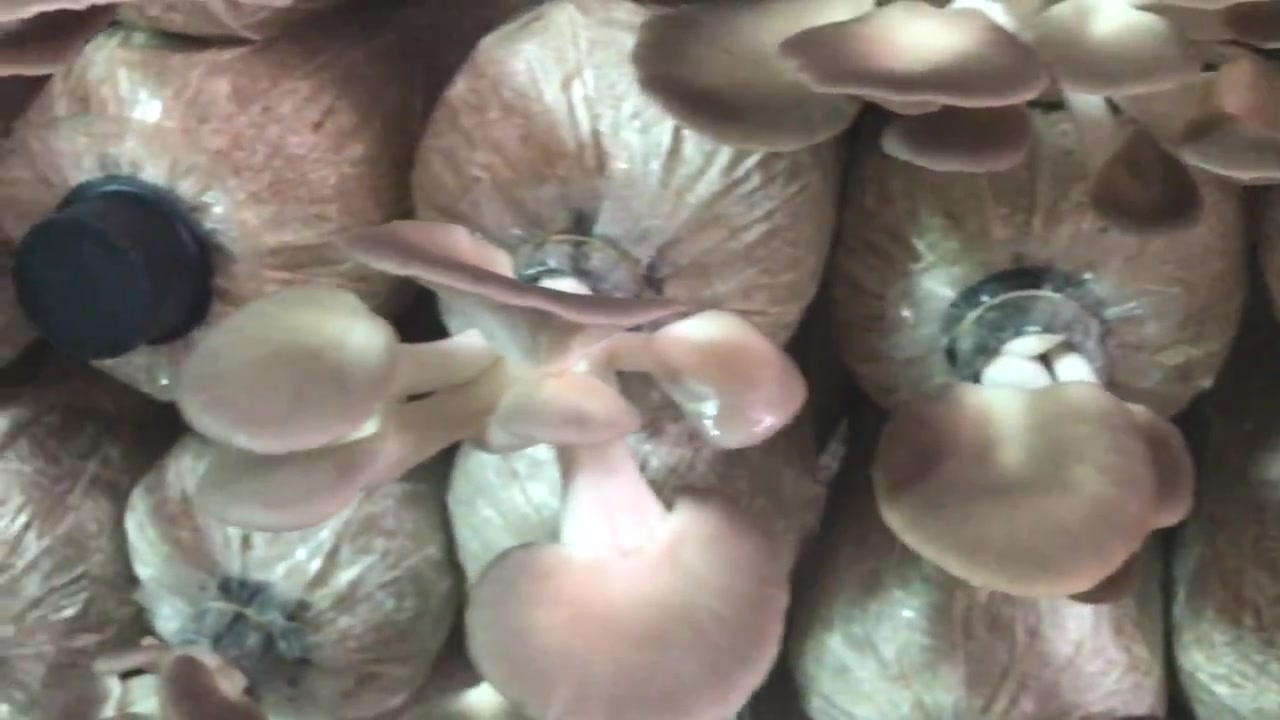nam: (171, 207, 809, 720), (621, 5, 1280, 238), (867, 274, 1202, 613)
